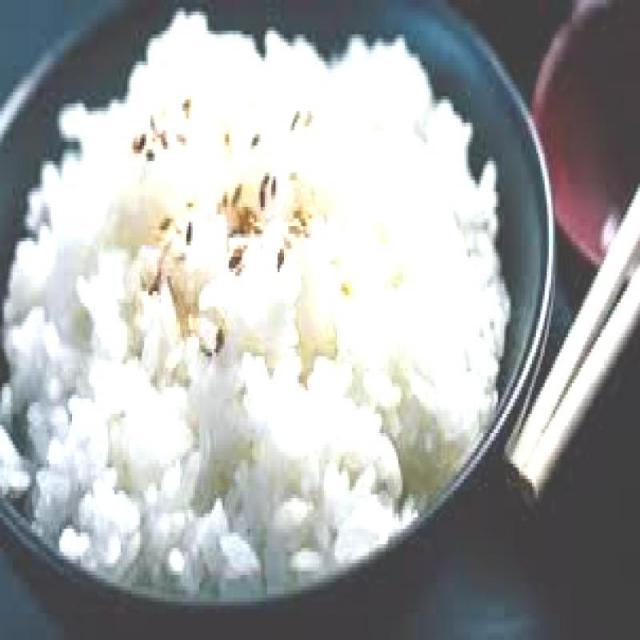rice: (1, 7, 510, 606)
